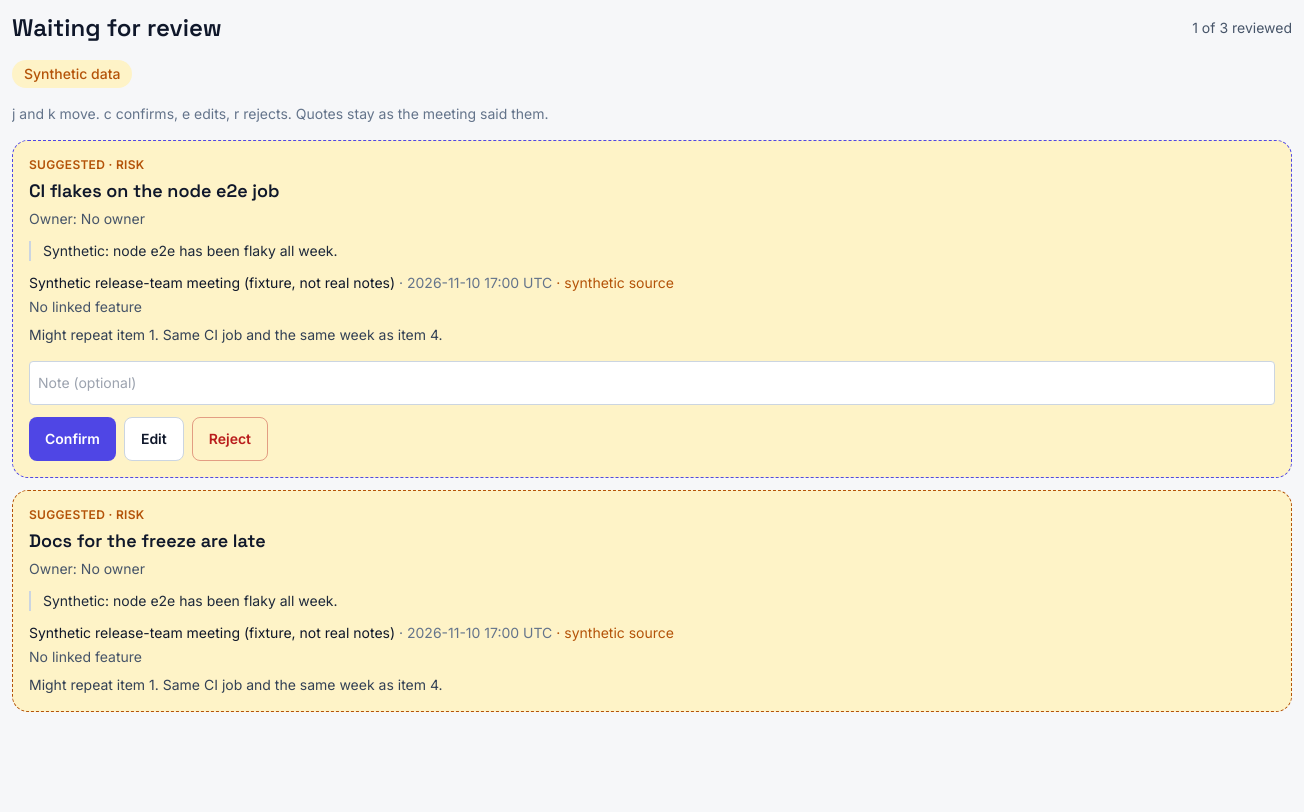
Scenario: RAID review queue › starts the next item's edit from that item's title
Click the button "Edit".
click(154, 439)  # box [124,417,184,461]
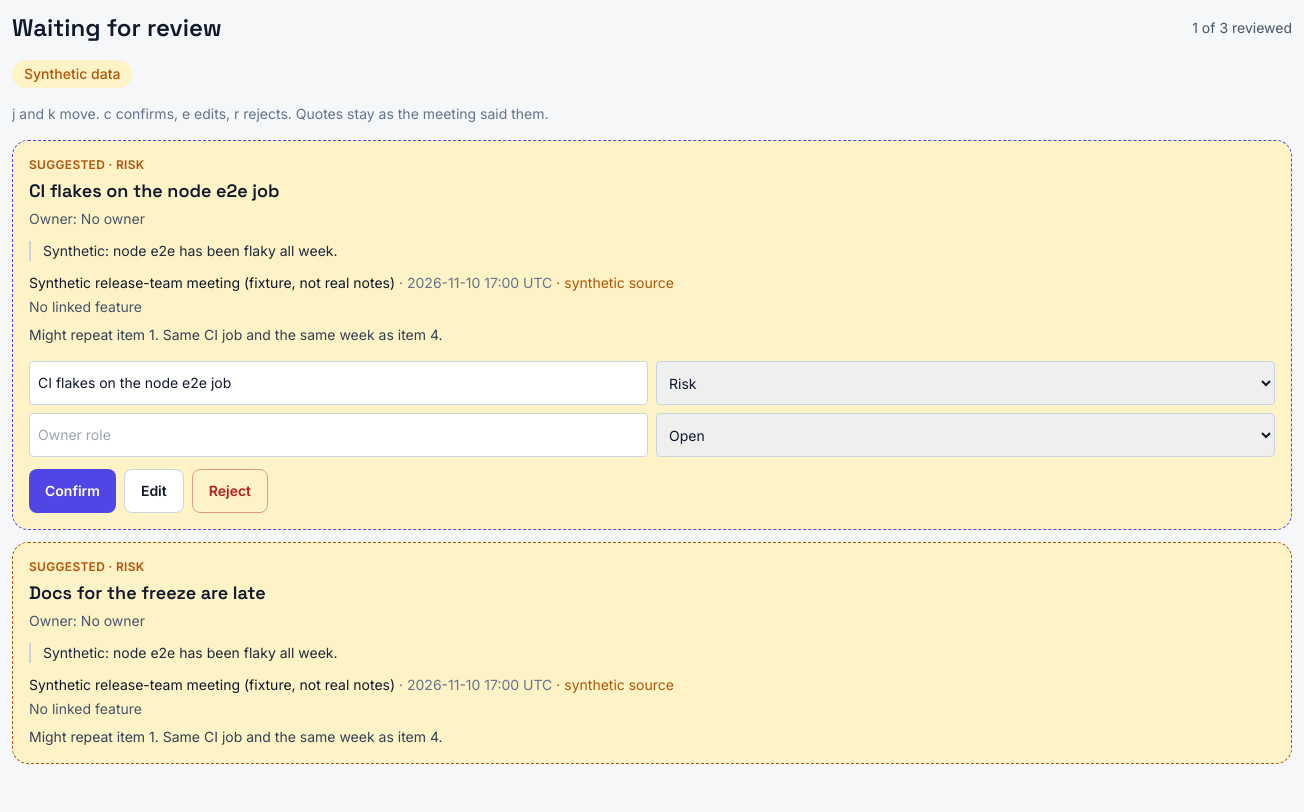
Replace the text in the field named "Title" with "Changed on the first item" at [338, 383], box [29,361,648,405]
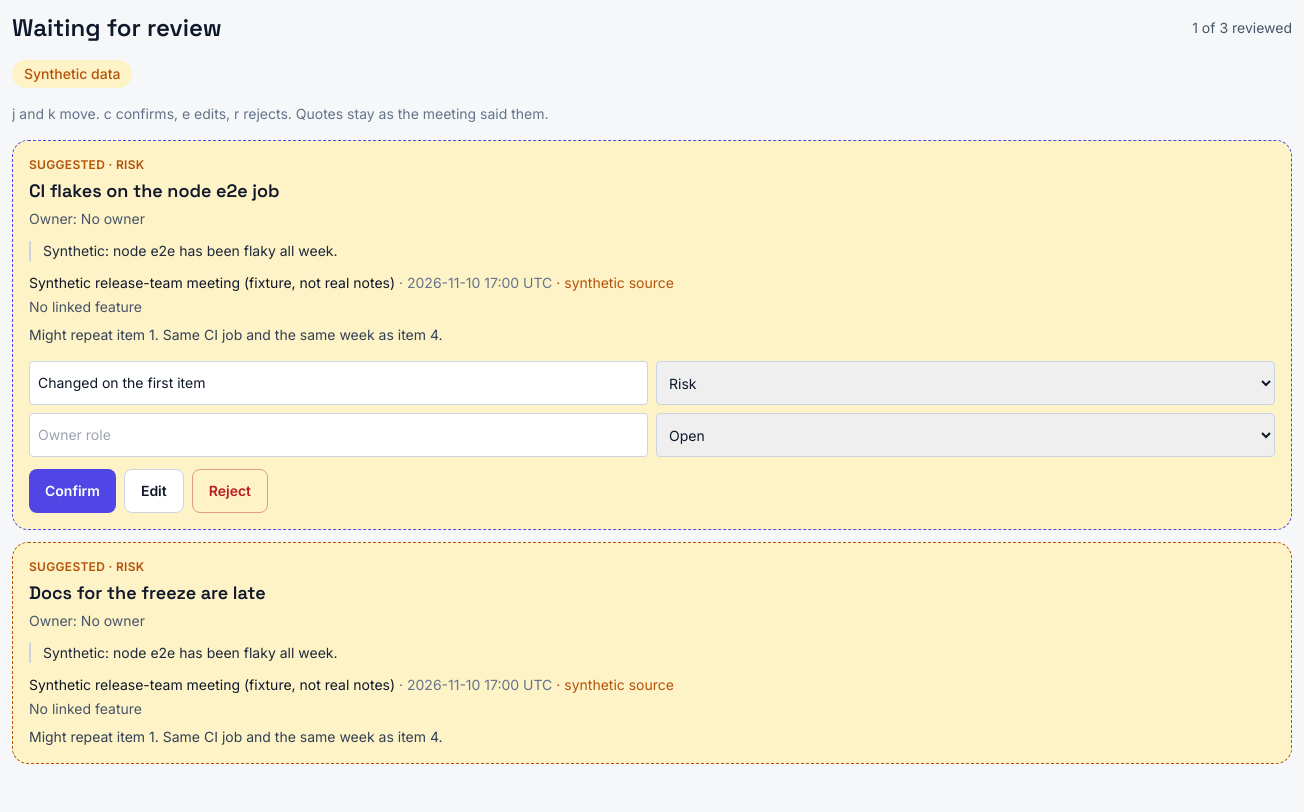
Press j
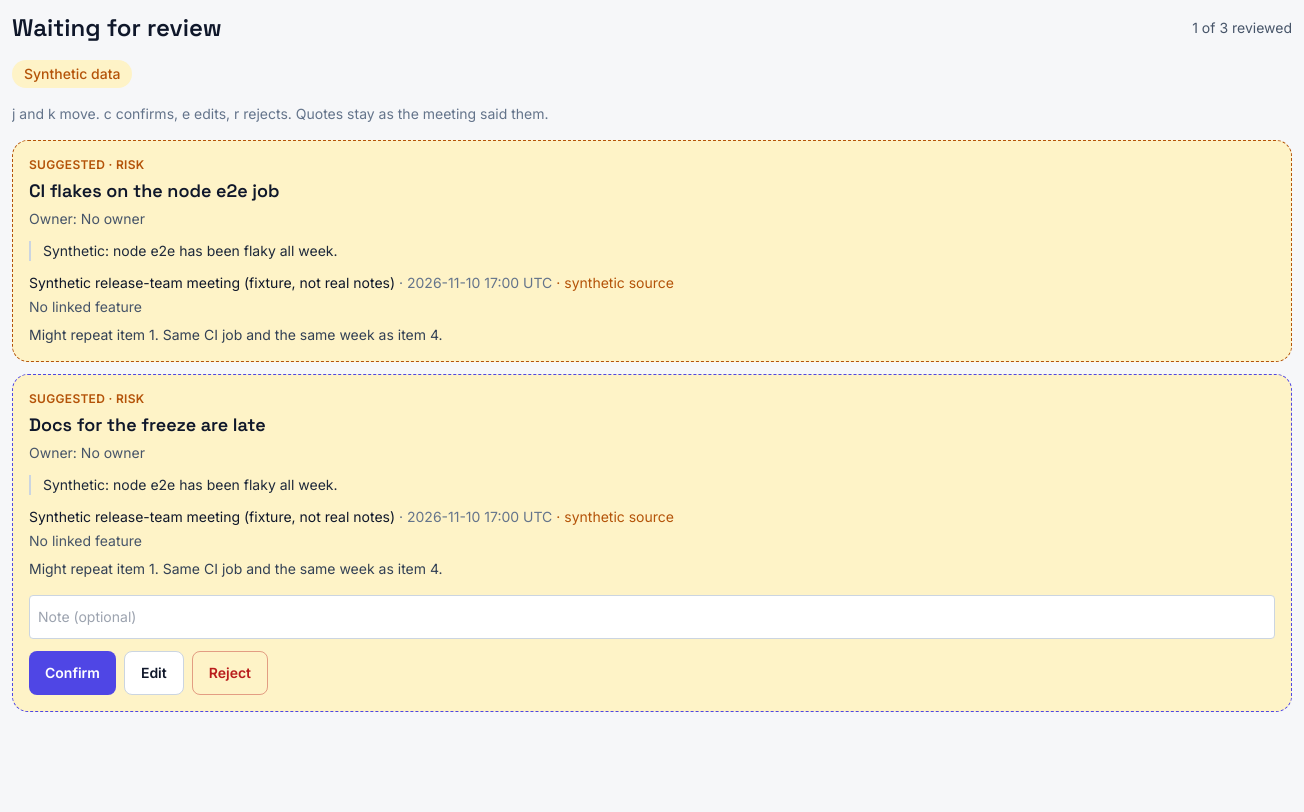
Click the button "Edit".
click(154, 673)  # box [124,651,184,695]
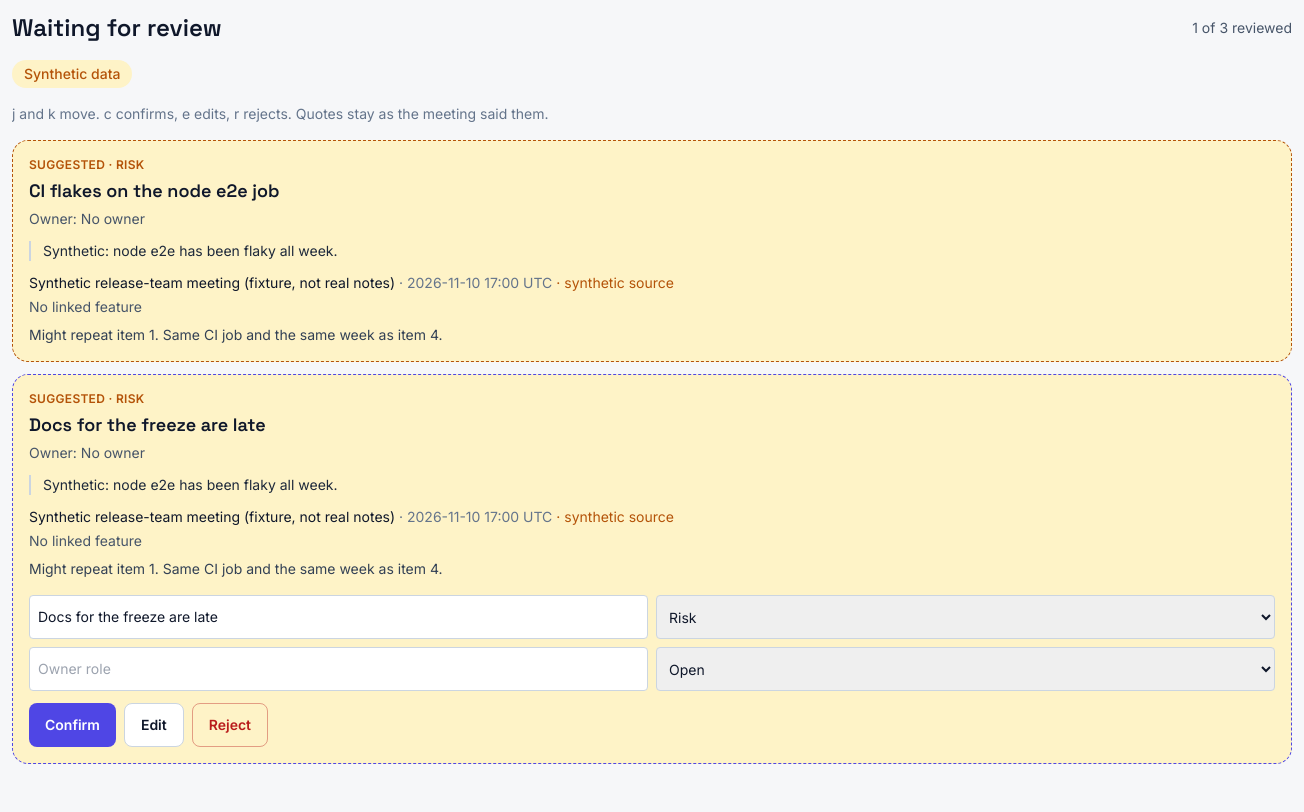
Result: the field named "Title" holds "Docs for the freeze are late" at [29,595,648,639]
